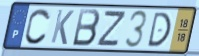3: (123, 8, 148, 50)
B: (71, 8, 102, 48)
C: (24, 7, 52, 46)
D: (146, 11, 172, 49)
K: (49, 8, 76, 47)
Z: (95, 10, 128, 49)
